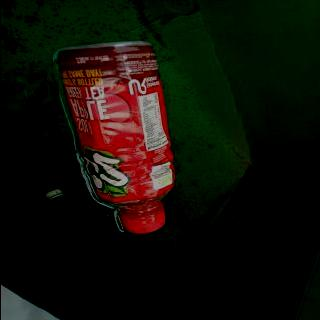bottle: (49, 39, 178, 235)
